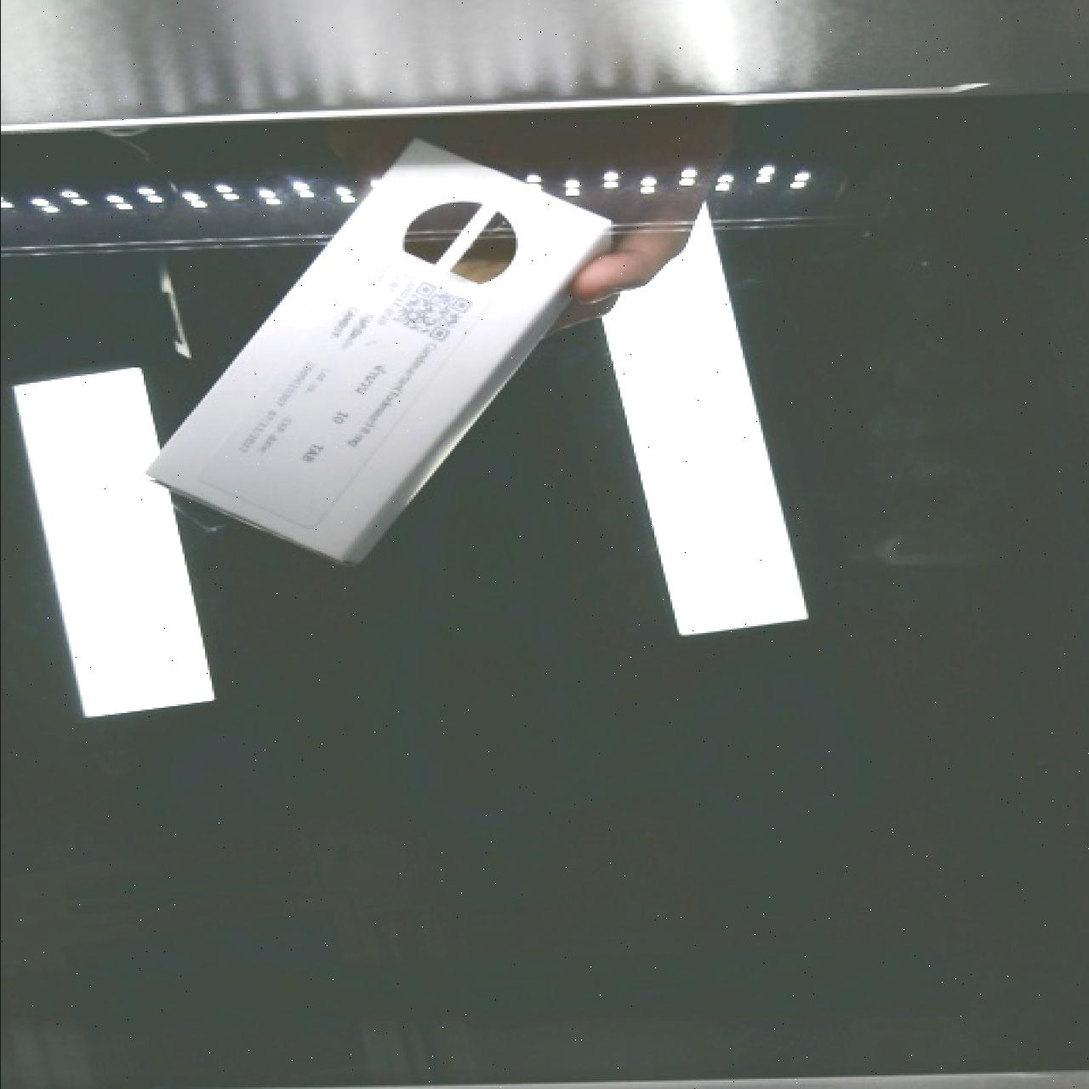qr_code: (377, 260, 492, 370)
